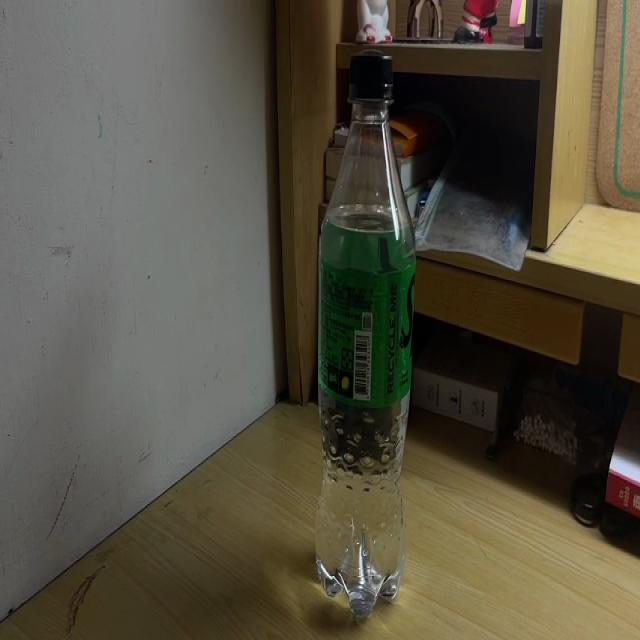Sprite: (318, 49, 412, 617)
